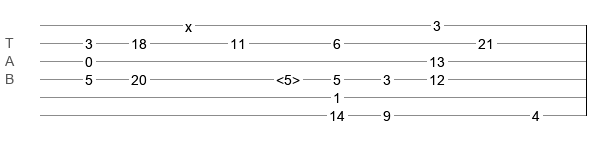0: (85, 54, 93, 64)
1: (333, 90, 341, 100)
11: (230, 36, 246, 46)
12: (429, 72, 445, 82)
13: (429, 54, 445, 64)
14: (329, 108, 345, 118)
18: (131, 36, 147, 46)
20: (131, 72, 147, 82)
21: (478, 36, 494, 46)
3: (85, 36, 93, 46), (383, 72, 391, 82), (433, 18, 441, 28)
4: (532, 108, 540, 118)
5: (85, 72, 93, 82), (333, 72, 341, 82)
6: (333, 36, 341, 46)
9: (383, 108, 391, 118)
harmonic: (276, 72, 300, 82)
x: (185, 19, 192, 27)
